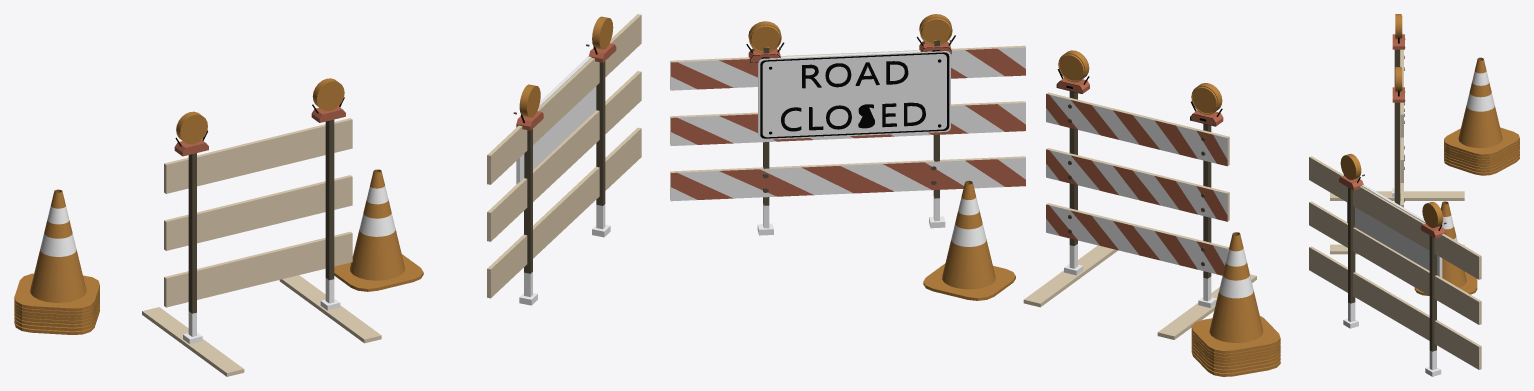
The model's file is Obstacle.fbx.
3 views of the same model, side by side, from view 1: azimuth 30°, elevation 25°; view 2: azimuth 150°, elevation 25°; view 3: azimuth 270°, elevation 25° (orthographic). The views are drawn at different scales.
Visible parts, largest first — view 1: polySurface101.001, polySurface27, polySurface9, polySurface10, polySurface8, polySurface22, polySurface2, pCube2, pCube3, polySurface4, pCylinder13, pCylinder12; view 2: polySurface101.001, polySurface27, polySurface10, polySurface9, polySurface8, polySurface22, pCube3, pCube2, polySurface2, polySurface4, pCylinder12, pCylinder13; view 3: polySurface101.001, polySurface27, polySurface22, pCube2, polySurface2, polySurface10, pCylinder12, pCylinder13, pCube3.
Part boxes in pixels (left/top/right/bottom): polySurface101.001: left=487, top=14, right=641, bottom=305; polySurface27: left=14, top=189, right=99, bottom=334; polySurface9: left=164, top=175, right=352, bottom=250; polySurface10: left=164, top=118, right=352, bottom=193; polySurface8: left=164, top=231, right=352, bottom=307; polySurface22: left=334, top=169, right=423, bottom=291; polySurface2: left=325, top=119, right=334, bottom=303; pCube2: left=142, top=307, right=244, bottom=376; pCube3: left=279, top=275, right=381, bottom=343; polySurface4: left=188, top=153, right=196, bottom=336; pCylinder13: left=176, top=111, right=207, bottom=144; pCylinder12: left=312, top=78, right=344, bottom=110; polySurface101.001: left=670, top=14, right=1025, bottom=235; polySurface27: left=1191, top=232, right=1280, bottom=376; polySurface10: left=1046, top=92, right=1229, bottom=166; polySurface9: left=1046, top=148, right=1229, bottom=221; polySurface8: left=1046, top=203, right=1229, bottom=275; polySurface22: left=923, top=180, right=1015, bottom=300; pCube3: left=1023, top=245, right=1117, bottom=307; pCube2: left=1157, top=274, right=1256, bottom=339; polySurface2: left=1069, top=91, right=1077, bottom=268; polySurface4: left=1203, top=124, right=1211, bottom=301; pCylinder12: left=1058, top=50, right=1089, bottom=82; pCylinder13: left=1191, top=83, right=1222, bottom=114; polySurface101.001: left=1309, top=154, right=1481, bottom=376; polySurface27: left=1444, top=57, right=1519, bottom=175; polySurface22: left=1414, top=201, right=1477, bottom=295; pCube2: left=1330, top=191, right=1464, bottom=200; polySurface2: left=1394, top=102, right=1400, bottom=205; polySurface10: left=1400, top=49, right=1403, bottom=137; pCylinder12: left=1395, top=67, right=1402, bottom=92; pCylinder13: left=1395, top=14, right=1402, bottom=39; pCube3: left=1330, top=244, right=1464, bottom=254.
Size of the model in its own units: 91.95 by 33.92 by 33.85.
